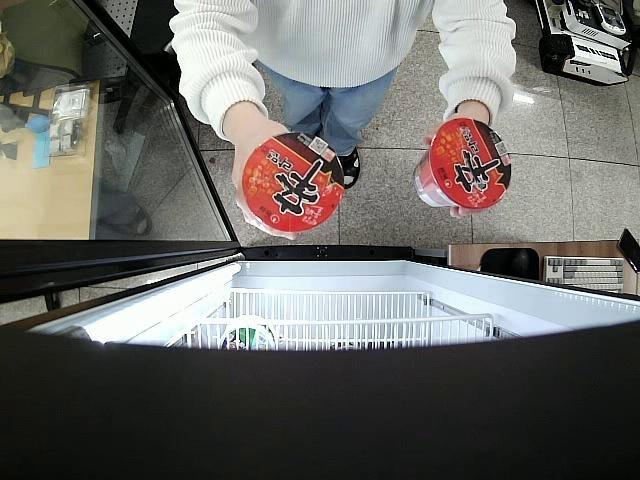02_shinRamen_S: (243, 135, 344, 234), (412, 120, 514, 212)
